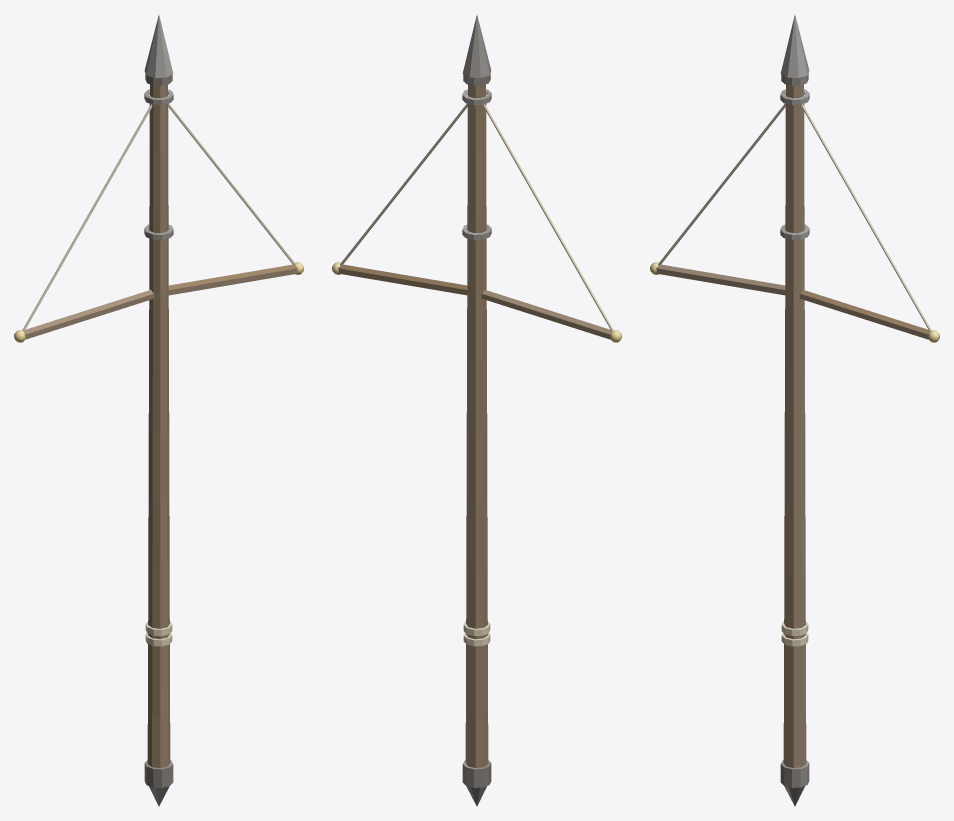
Rendered from pole_mast.glb.
3 renders of one model, left to right at view 1: azimuth 30°, elevation 25°; view 2: azimuth 150°, elevation 25°; view 3: azimuth 330°, elevation 25°, orthographic.
Visible parts, largest first — view 1: Wood, Iron, Rope; view 2: Wood, Iron, Rope; view 3: Wood, Iron, Rope.
Part boxes in pixels (x1,y1,x2,y2): Wood: [24, 84, 297, 767]; Iron: [144, 15, 173, 806]; Rope: [22, 103, 295, 646]; Wood: [338, 84, 611, 767]; Iron: [462, 15, 491, 806]; Rope: [340, 103, 613, 646]; Wood: [656, 84, 929, 767]; Iron: [780, 15, 809, 806]; Rope: [658, 103, 931, 646].
Size of the model in its own units: 1.45 by 3.82 by 0.13.
